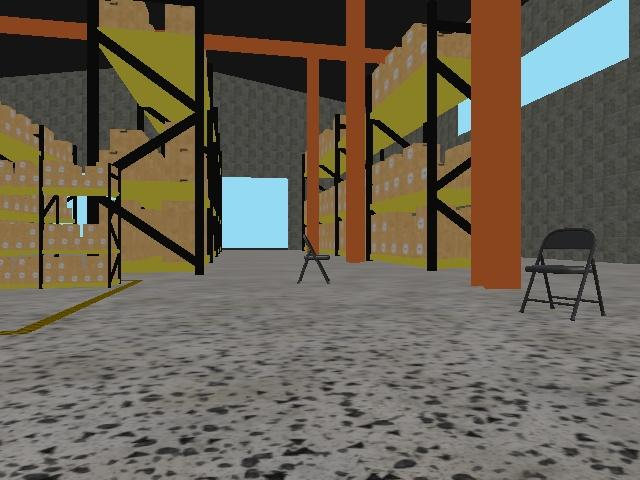chair: (518, 226, 607, 323), (296, 233, 332, 286)
